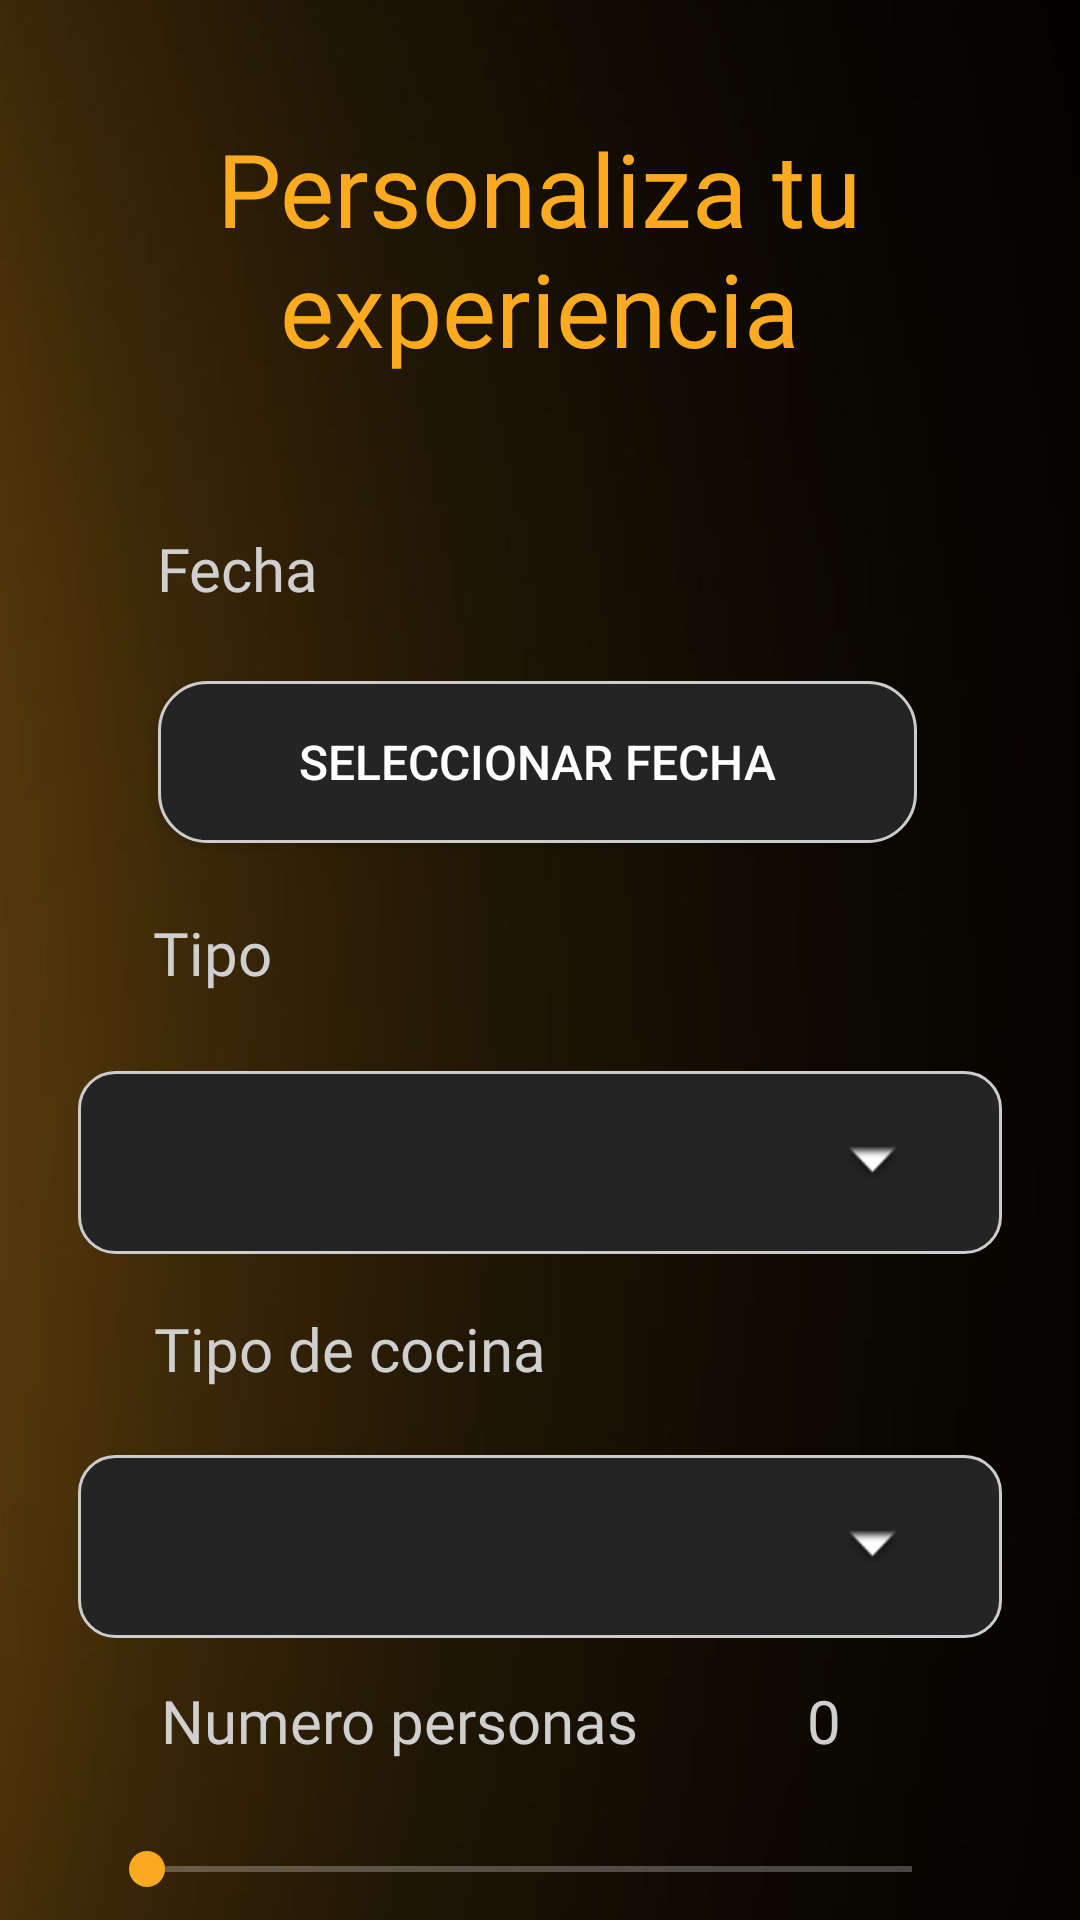

Icons on this 1080 x 1920 Android screen, each with its box as {"x1": x1, "y1": y1, "x2": x2, "y2": y2}:
arrow down float: {"x1": 850, "y1": 1147, "x2": 895, "y2": 1172}, {"x1": 850, "y1": 1531, "x2": 895, "y2": 1556}
